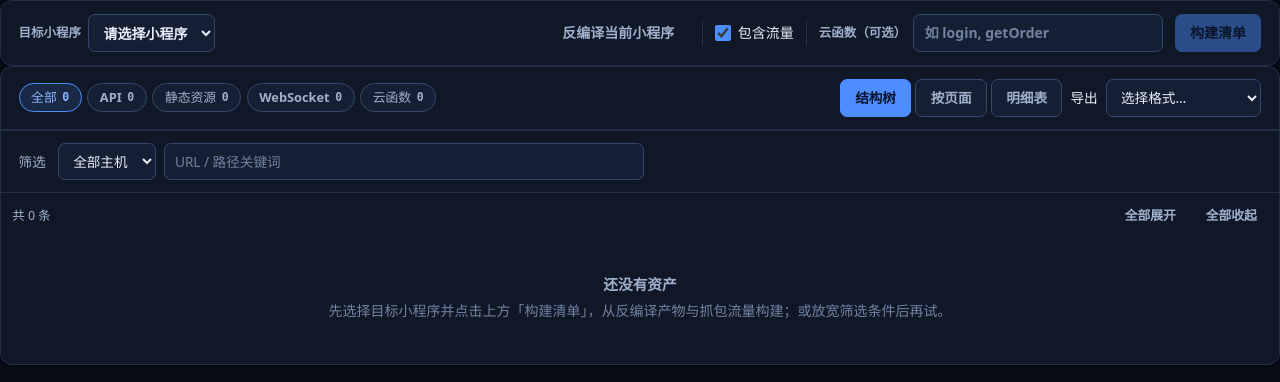
Scenario: AssetsView › offers a one-click decompile for a connected program without output and selects it afterwards
Expected: the dropdown with test id "assets-target" shows "请选择小程序", [88,14,215,52]
What coordinates should you click on to do the following:
click the button with test id "assets-decompile-connected"
I would click on:
 (618, 33)
Its box is [547,14,690,52].
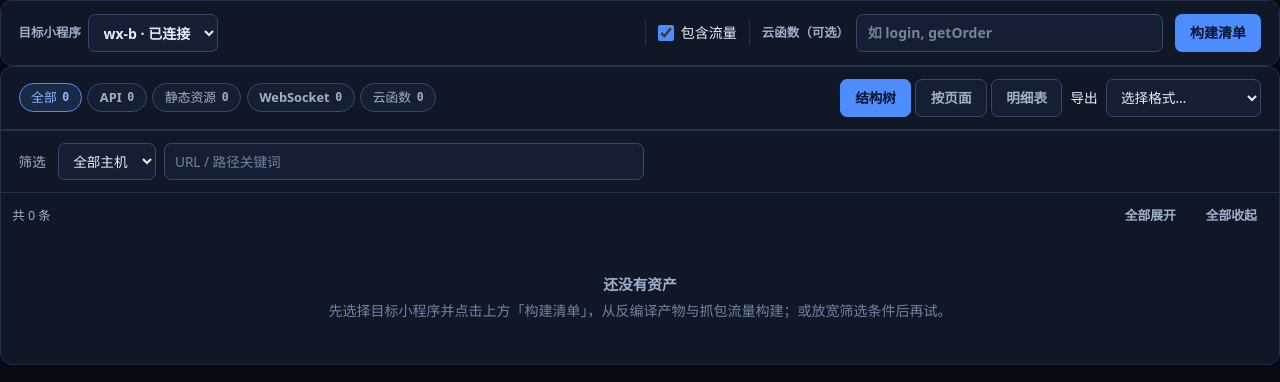
Now the dropdown with test id "assets-target" shows "wx-b · 已连接", box [88,14,218,52]
